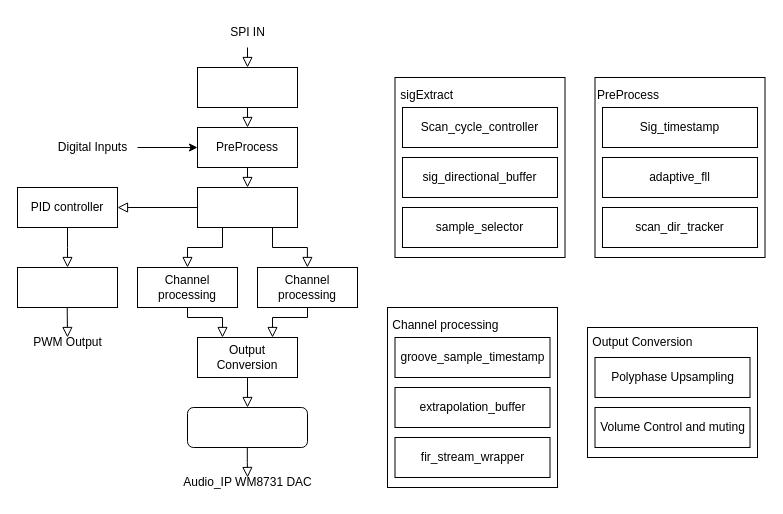
Some shapes in this 783 by 514 pixel diagram are drawn without their labels. Each missing label, with the centre of its shape:
"Output Write" belongs at (x=247, y=427).
"PWM Generator" belongs at (x=67, y=287).
"Sig Extract" belongs at (x=247, y=207).
"SPI Decode" belongs at (x=247, y=87).
